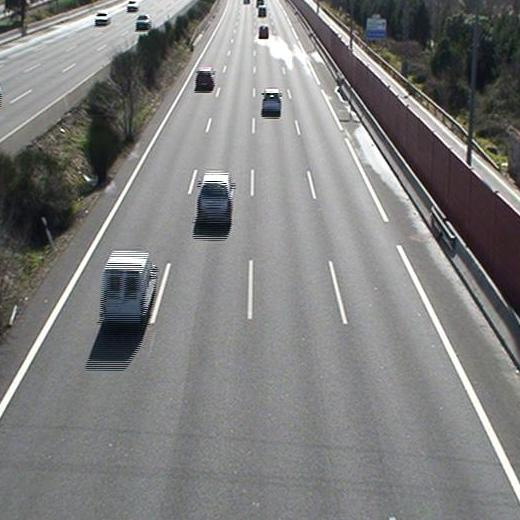car: (197, 174, 233, 228), (262, 88, 281, 117), (194, 68, 215, 91), (258, 24, 269, 40)
van: (100, 250, 158, 324)
